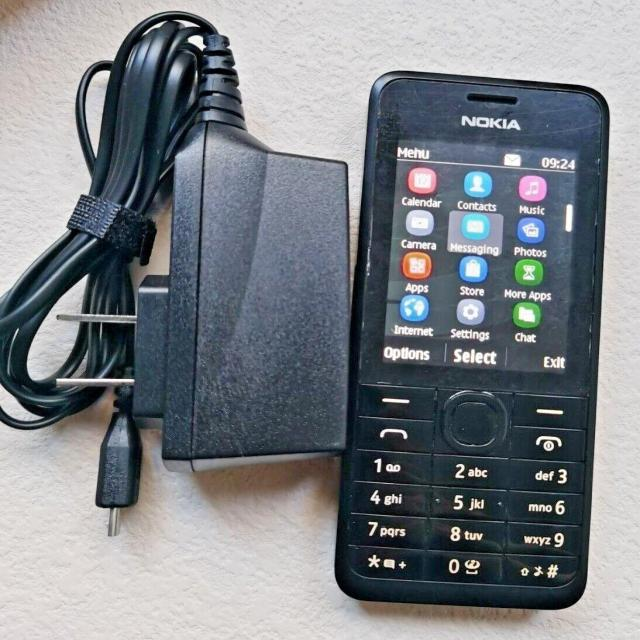mobile phone: (333, 69, 609, 610)
